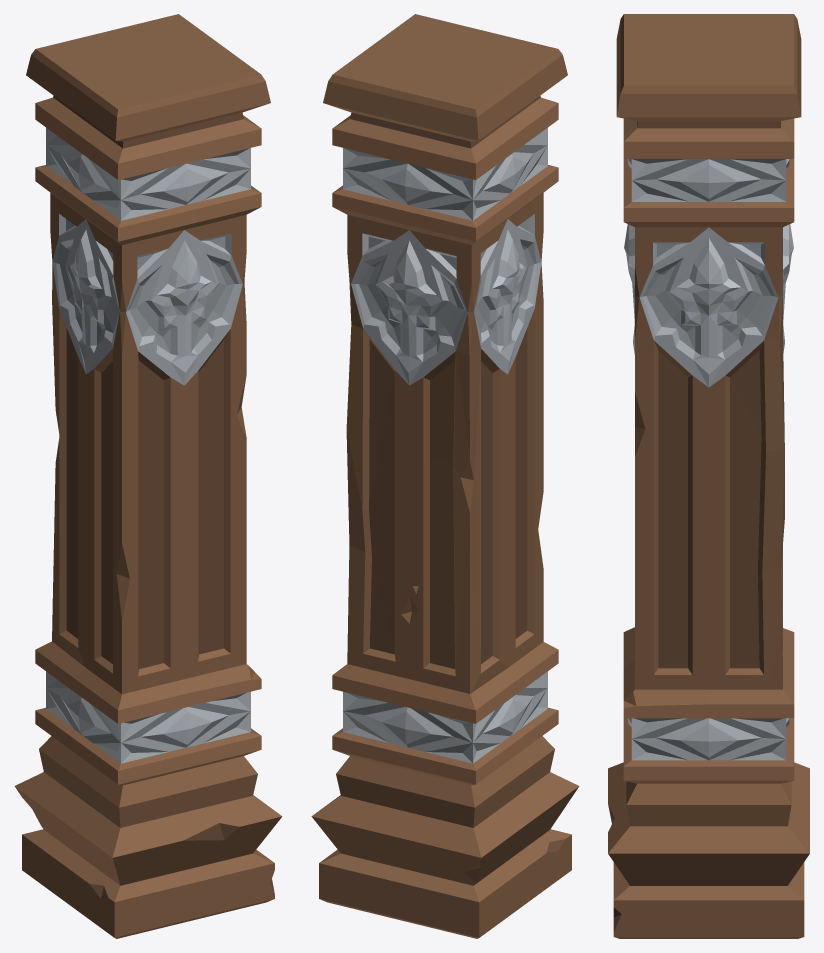
The model's file is elven_SM_Bld_Pillar_03.gltf.
3 views of the same model, side by side, from view 1: azimuth 30°, elevation 25°; view 2: azimuth 150°, elevation 25°; view 3: azimuth 270°, elevation 25° (orthographic). The views are drawn at different scales.
Parts seen in each view (by area): view 1: SM_Bld_Pillar_03; view 2: SM_Bld_Pillar_03; view 3: SM_Bld_Pillar_03.
Part boxes in pixels (x1,y1,x2,y2): SM_Bld_Pillar_03: (14,14,282,938); SM_Bld_Pillar_03: (311,14,579,938); SM_Bld_Pillar_03: (608,14,809,938).
Bounding box in the file's own units: 0.6462 × 3.01 × 0.6462.
Materials: 2 (2 with a texture image).
